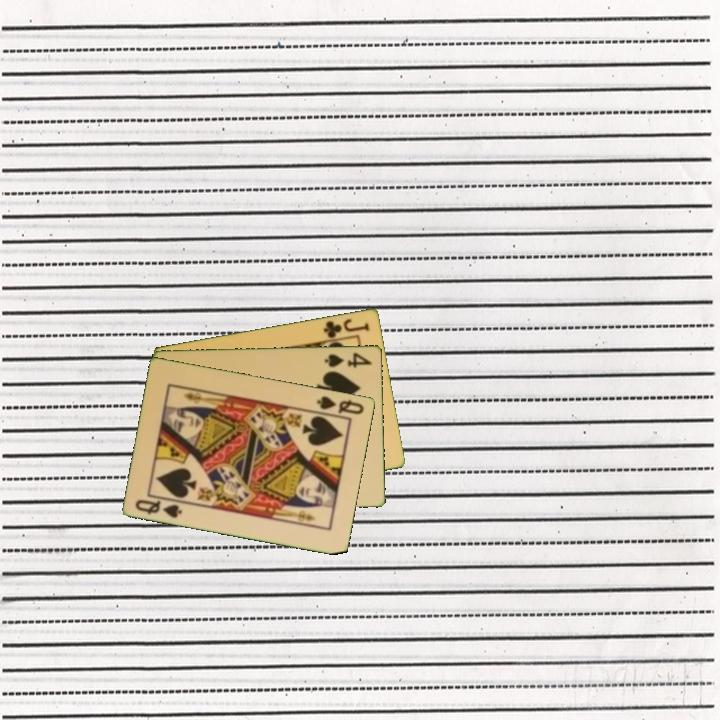4s: (322, 349, 375, 370)
Jc: (320, 315, 372, 343)
Qs: (132, 493, 187, 521), (313, 392, 367, 417)
